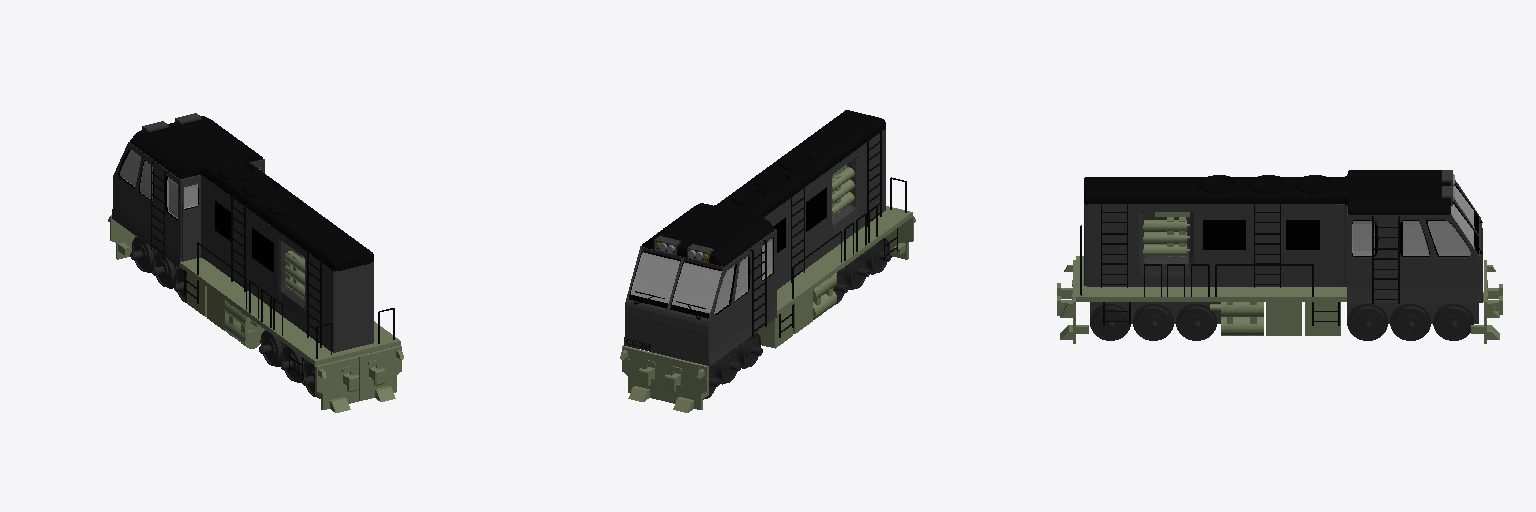
Rendered from TRAIN1.obj.
The picture shows the model from 3 angles: view 1: azimuth 30°, elevation 25°; view 2: azimuth 150°, elevation 25°; view 3: azimuth 270°, elevation 25°; orthographic projection.
Parts seen in each view (by area): view 1: body.001_Plane.007, body_Plane.006, Plane_Plane.012, ladder_Circle.004, wheel_Circle, wheel.001_Circle.001; view 2: body.001_Plane.007, body_Plane.006, Plane_Plane.012, ladder_Circle.004, wheel.001_Circle.001, wheel_Circle, Cube.002_Cube.003; view 3: body.001_Plane.007, body_Plane.006, Plane_Plane.012, wheel_Circle, wheel.001_Circle.001, ladder_Circle.004, interior_Cube.000, interior.001_Cube.001.
Part boxes in pixels (left/top/right/bottom): body.001_Plane.007: left=112, top=142, right=373, bottom=352; body_Plane.006: left=108, top=215, right=403, bottom=412; Plane_Plane.012: left=130, top=116, right=373, bottom=271; ladder_Circle.004: left=151, top=141, right=394, bottom=380; wheel_Circle: left=130, top=237, right=186, bottom=302; wheel.001_Circle.001: left=259, top=330, right=371, bottom=398; body.001_Plane.007: left=624, top=129, right=885, bottom=365; body_Plane.006: left=620, top=165, right=915, bottom=412; Plane_Plane.012: left=642, top=110, right=885, bottom=266; ladder_Circle.004: left=663, top=130, right=906, bottom=337; wheel.001_Circle.001: left=833, top=238, right=891, bottom=304; wheel_Circle: left=652, top=332, right=762, bottom=399; Cube.002_Cube.003: left=634, top=236, right=713, bottom=319; body.001_Plane.007: left=1084, top=174, right=1482, bottom=302; body_Plane.006: left=1057, top=212, right=1502, bottom=343; Plane_Plane.012: left=1084, top=170, right=1450, bottom=214; wheel_Circle: left=1347, top=303, right=1473, bottom=340; wheel.001_Circle.001: left=1090, top=303, right=1216, bottom=340; ladder_Circle.004: left=1080, top=201, right=1399, bottom=325; interior_Cube.000: left=1090, top=302, right=1220, bottom=323; interior.001_Cube.001: left=1347, top=303, right=1478, bottom=323.
Size of the model in its own units: 5.86 by 9.06 by 24.91.